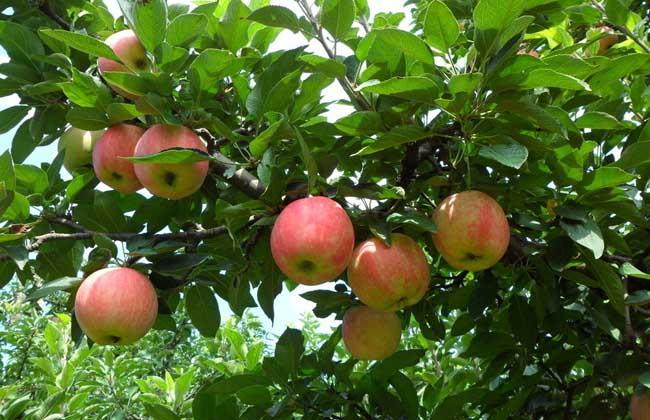apple: (269, 196, 356, 285), (73, 265, 160, 347), (430, 188, 511, 274), (348, 233, 432, 313), (132, 131, 212, 199), (94, 28, 163, 99), (92, 123, 155, 194), (340, 306, 404, 360), (59, 124, 108, 177)
